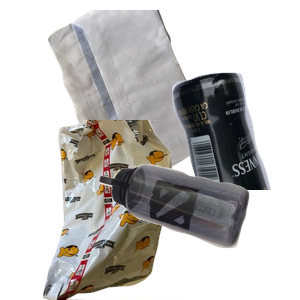glass: (106, 70, 300, 250)
paper: (45, 10, 251, 190)
plastic: (97, 162, 300, 300)
trash: (25, 120, 198, 300)
